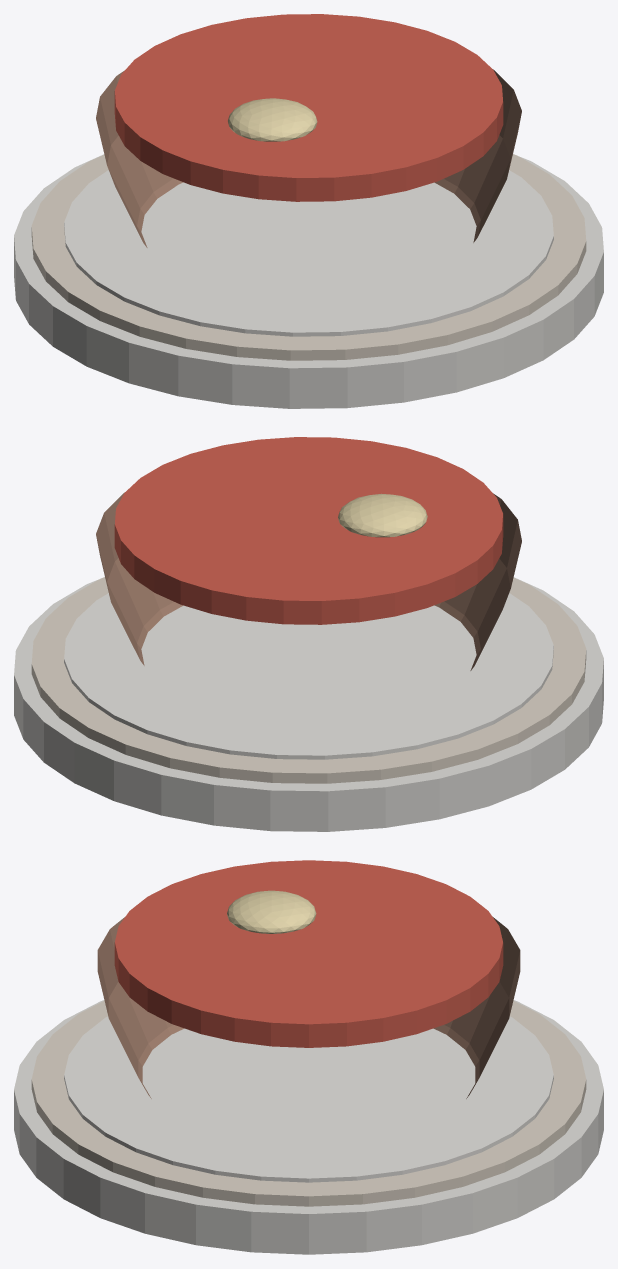
Rendered from chili.glb.
3 views of the same model, one above another, from view 1: azimuth 30°, elevation 25°; view 2: azimuth 150°, elevation 25°; view 3: azimuth 270°, elevation 25° (orthographic).
Visible parts, largest first — view 1: obj_0002, obj_0004, obj_0000, obj_0001, obj_0003, obj_0005; view 2: obj_0002, obj_0004, obj_0000, obj_0001, obj_0003, obj_0005; view 3: obj_0002, obj_0004, obj_0000, obj_0001, obj_0003, obj_0005.
Part boxes in pixels (x1,y1,x2,y2): obj_0002: (64, 170, 553, 336); obj_0004: (114, 14, 503, 201); obj_0000: (14, 154, 603, 408); obj_0001: (31, 154, 586, 360); obj_0003: (96, 69, 521, 247); obj_0005: (228, 98, 317, 141); obj_0002: (64, 593, 553, 759); obj_0004: (114, 437, 503, 624); obj_0000: (14, 577, 603, 831); obj_0001: (31, 577, 586, 783); obj_0003: (96, 492, 521, 670); obj_0005: (338, 493, 427, 537); obj_0002: (64, 1016, 553, 1182); obj_0004: (114, 860, 503, 1047); obj_0000: (14, 1000, 603, 1254); obj_0001: (31, 1000, 586, 1206); obj_0003: (97, 917, 520, 1098); obj_0005: (227, 890, 316, 933).
Size of the model in its own units: 1.58 by 0.6 by 1.58.
